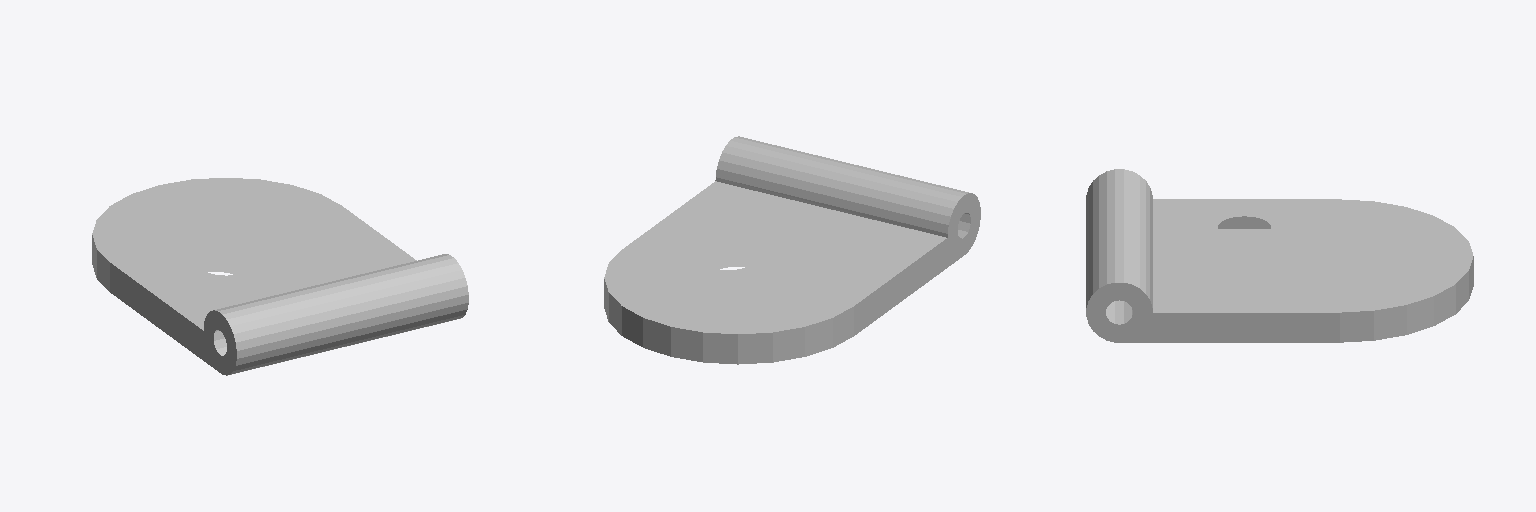
File: original-22.obj
3 renders of one model, left to right at view 1: azimuth 30°, elevation 25°; view 2: azimuth 150°, elevation 25°; view 3: azimuth 270°, elevation 25°, orthographic.
Parts seen in each view (by area): view 1: #ID141; view 2: #ID141; view 3: #ID141.
Part boxes in pixels (bbox=[...]): #ID141: bbox=[92, 178, 468, 375]; #ID141: bbox=[604, 136, 980, 364]; #ID141: bbox=[1086, 169, 1473, 342].
Size of the model in its own units: 0.0301 by 0.0075 by 0.0435.